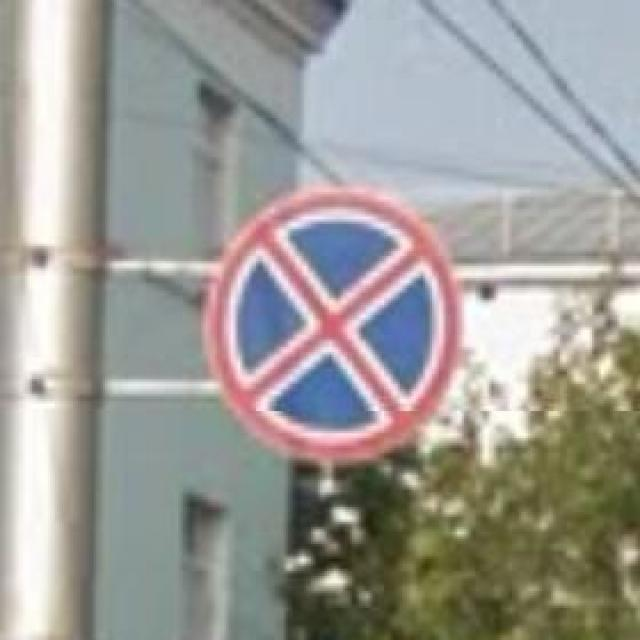traffic_sign: (204, 185, 457, 462)
